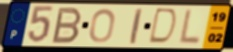5: (26, 4, 55, 45)
B: (49, 6, 84, 45)
D: (146, 7, 180, 46)
I: (129, 7, 144, 46)
L: (177, 8, 203, 47)
O: (88, 8, 117, 45)
